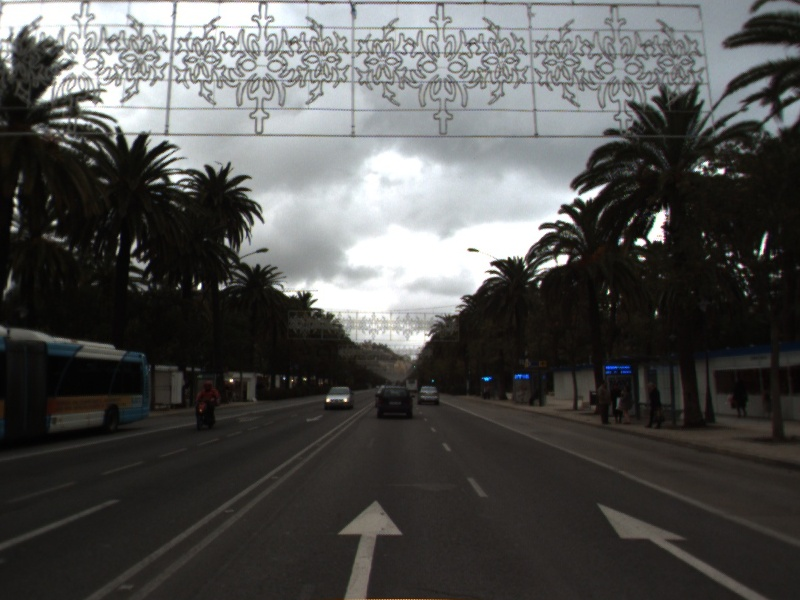STRAIGHT: (592, 499, 771, 600), (333, 496, 407, 600)
